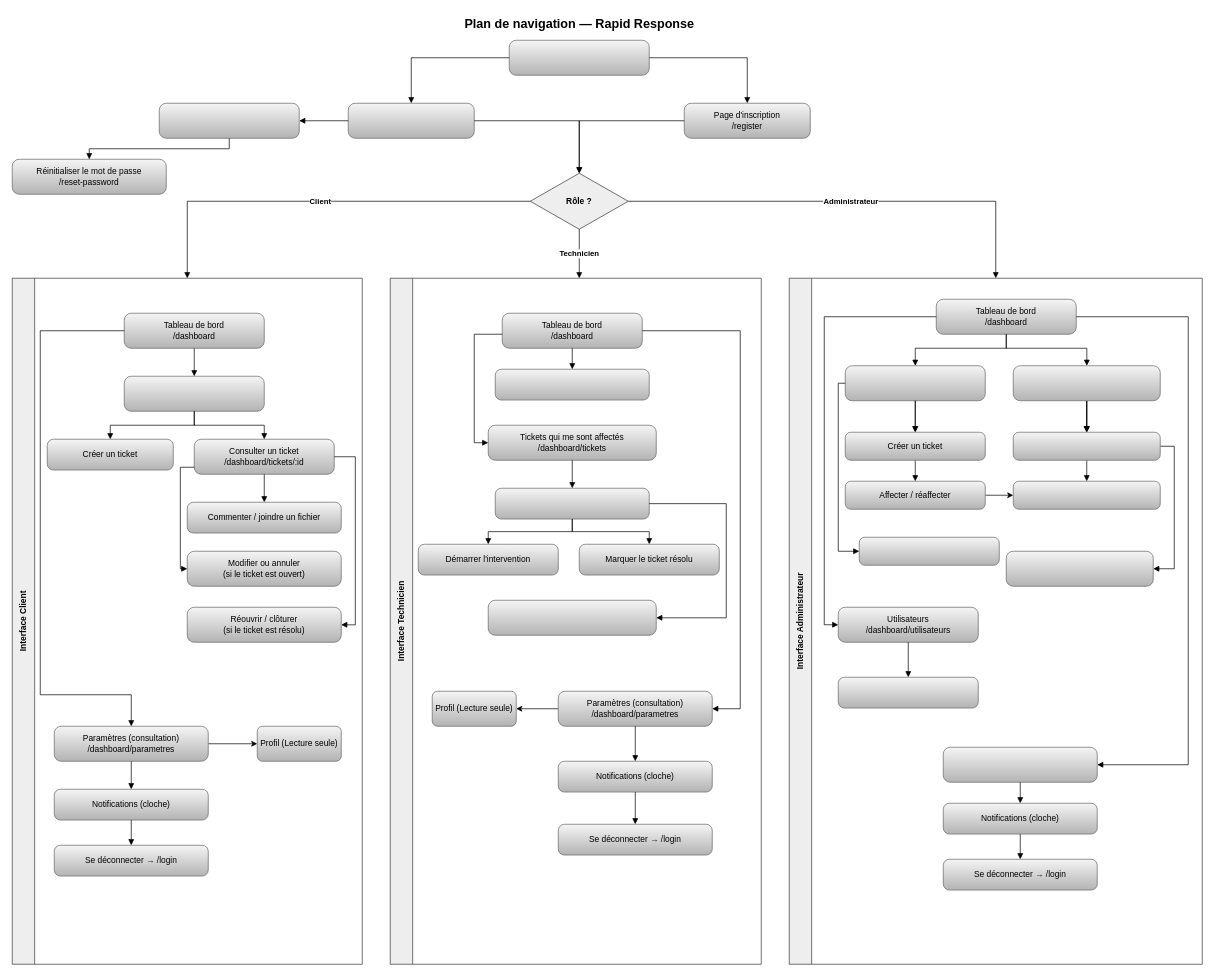
The diagram is 1215 pixels wide and 977 high, and some of its shapes have lost their labels. Here are the shapes that lost their labels. From the top down, the box of each, then its label:
(509, 40, 649, 75): Page d'accueil /
(159, 103, 299, 138): Mot de passe oublié /forgot-password
(348, 103, 474, 138): Page de connexion /login
(124, 376, 264, 411): Page Tickets /dashboard/tickets
(495, 369, 649, 400): Changer ma disponibilité
(845, 365, 985, 401): Tous les tickets /dashboard/tickets
(1013, 365, 1160, 401): Techniciens /dashboard/techniciens
(1013, 432, 1160, 460): Ajouter un technicien
(495, 488, 649, 519): Consulter un ticket affecté
(1013, 481, 1160, 509): Référentiel de compétences
(859, 537, 999, 565): Détail / commenter / PJ
(1006, 551, 1153, 586): Statistiques /dashboard/statistiques
(488, 600, 656, 635): Commenter (public / interne) Joindre un fichier
(838, 677, 978, 708): Créer / modifier / désactiver
(943, 747, 1097, 782): Paramètres (édition) /dashboard/parametres
